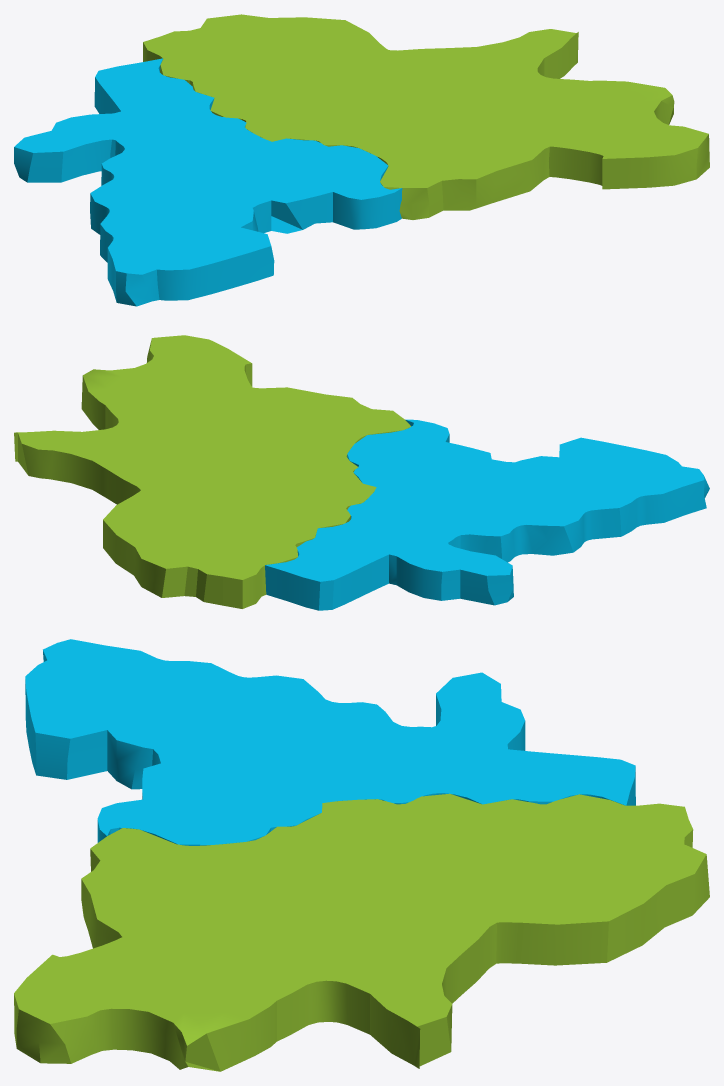
The model's file is Island02.fbx.
The picture shows the model from 3 angles, top to bottom: view 1: azimuth 30°, elevation 25°; view 2: azimuth 150°, elevation 25°; view 3: azimuth 270°, elevation 25°; orthographic projection. The views are drawn at different scales.
Parts seen in each view (by area): view 1: Retopo_Curve, Retopo_Curve.001; view 2: Retopo_Curve, Retopo_Curve.001; view 3: Retopo_Curve, Retopo_Curve.001.
Boxes of the visible parts, left/top/right/bottom form: Retopo_Curve: left=143, top=14, right=709, bottom=219; Retopo_Curve.001: left=14, top=58, right=402, bottom=306; Retopo_Curve: left=14, top=335, right=410, bottom=608; Retopo_Curve.001: left=265, top=419, right=709, bottom=610; Retopo_Curve: left=14, top=793, right=709, bottom=1071; Retopo_Curve.001: left=25, top=639, right=635, bottom=845.
Bounding box in the file's own units: 20.7 × 1 × 15.38.
